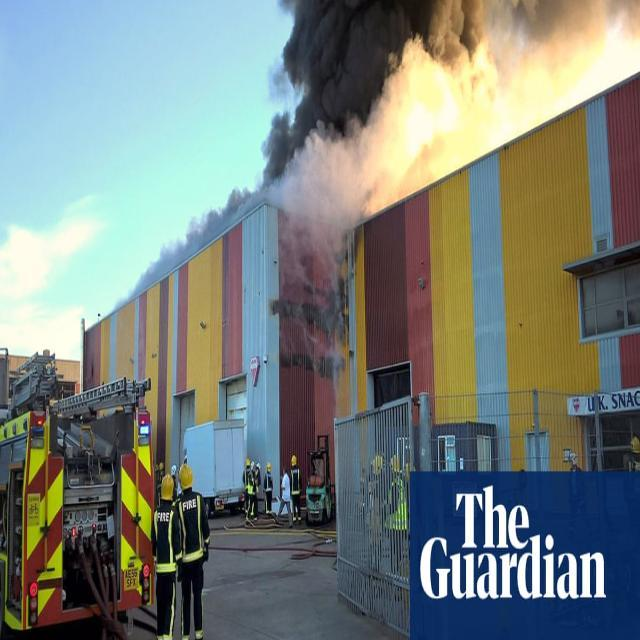Smoke: (111, 0, 640, 314)
